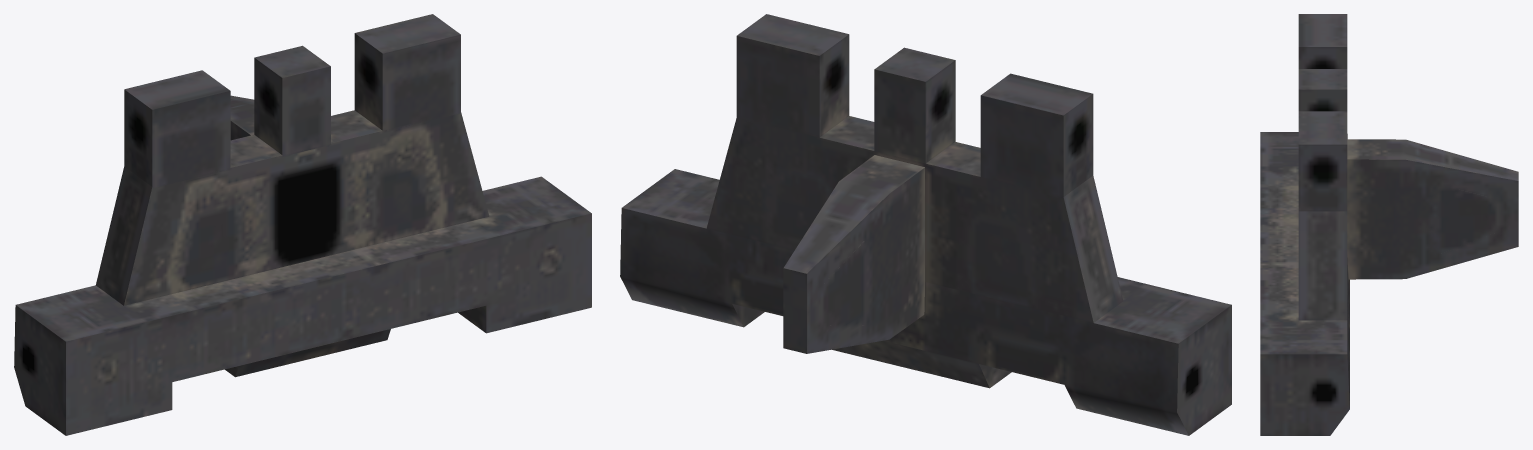
The model's file is Chi_Ha_track.glb.
3 renders of one model, left to right at view 1: azimuth 30°, elevation 25°; view 2: azimuth 150°, elevation 25°; view 3: azimuth 270°, elevation 25°, orthographic. The views are drawn at different scales.
Visible parts, largest first — view 1: set_0_group_0; view 2: set_0_group_0; view 3: set_0_group_0.
Boxes of the visible parts, x1=… form: set_0_group_0: x1=14, y1=14, x2=591, y2=435; set_0_group_0: x1=620, y1=14, x2=1231, y2=435; set_0_group_0: x1=1260, y1=14, x2=1518, y2=435.
Bounding box in the file's own units: 0.3303 × 0.17 × 0.1623.
Materials: 1 (1 with a texture image).
